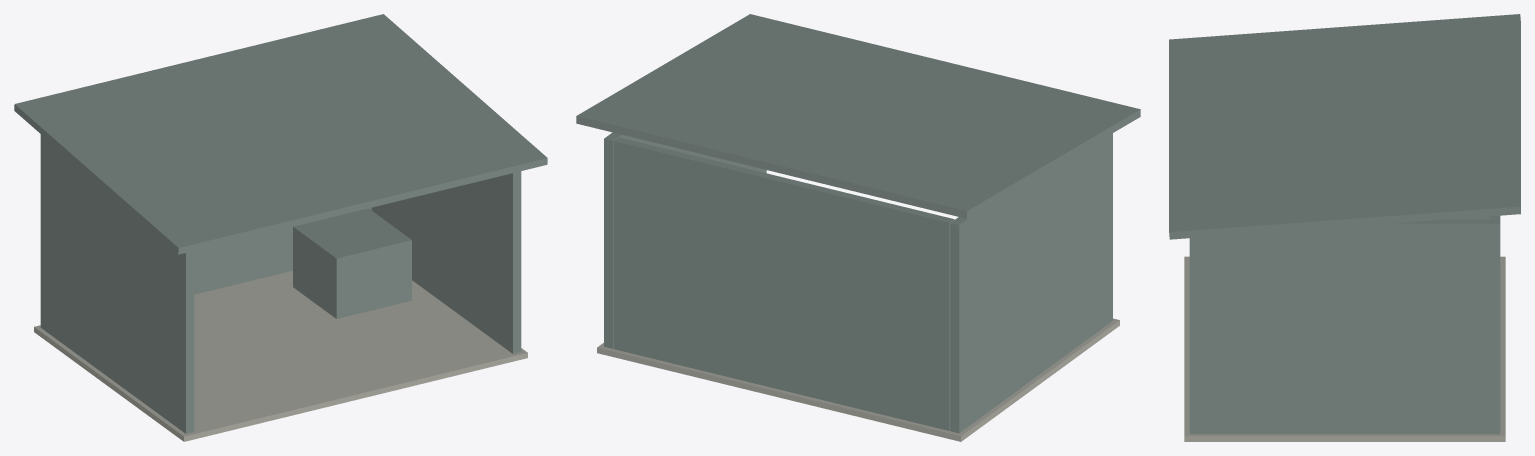
Rendered from SM_CasetaAperos_v0_Chapa_LOD1.fbx.
The picture shows the model from 3 angles, left to right: view 1: azimuth 30°, elevation 25°; view 2: azimuth 150°, elevation 25°; view 3: azimuth 270°, elevation 25°; orthographic projection. The views are drawn at different scales.
Visible parts, largest first — view 1: SM_huerta_nules_v20_LOD1; view 2: SM_huerta_nules_v20_LOD1; view 3: SM_huerta_nules_v20_LOD1.
Part boxes in pixels (bbox=[...]): SM_huerta_nules_v20_LOD1: bbox=[14, 14, 547, 441]; SM_huerta_nules_v20_LOD1: bbox=[576, 14, 1140, 441]; SM_huerta_nules_v20_LOD1: bbox=[1169, 14, 1520, 441].
Size of the model in its own units: 4.4 by 2.58 by 3.4.
